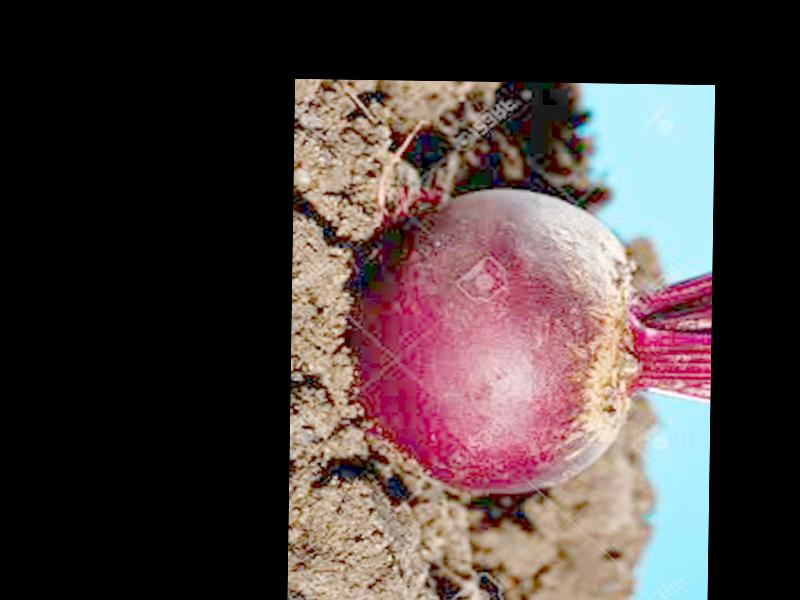Beet: (350, 185, 710, 496)
